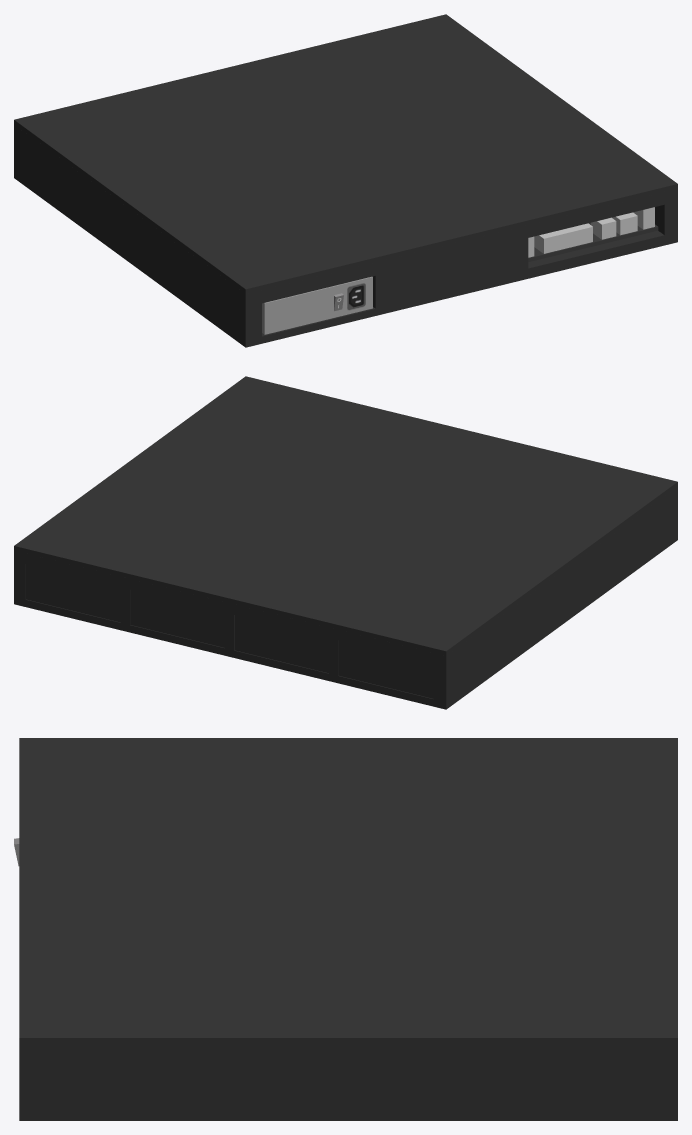
The model's file is Server.fbx.
The picture shows the model from 3 angles, top to bottom: view 1: azimuth 30°, elevation 25°; view 2: azimuth 150°, elevation 25°; view 3: azimuth 270°, elevation 25°; orthographic projection. The views are drawn at different scales.
Visible parts, largest first — view 1: Cover, Cube, PSUThin_2000kW, Ports, ATX; view 2: Cover, Cube, HDDSlot.003, HDDSlot, HDDSlot.002, HDDSlot.001; view 3: Cover, Cube.
Boxes of the visible parts, x1,y1,x2,y2 form: Cover: [14, 14, 677, 293]; Cube: [14, 124, 677, 347]; PSUThin_2000kW: [262, 276, 372, 334]; Ports: [528, 207, 654, 257]; ATX: [528, 222, 658, 261]; Cover: [14, 376, 677, 655]; Cube: [14, 486, 677, 709]; HDDSlot.003: [338, 640, 433, 698]; HDDSlot: [26, 564, 120, 622]; HDDSlot.002: [234, 615, 328, 673]; HDDSlot.001: [130, 589, 224, 647]; Cover: [19, 738, 677, 1044]; Cube: [19, 1044, 677, 1120].
Bounding box in the file's own units: 477 × 61.53 × 446.
